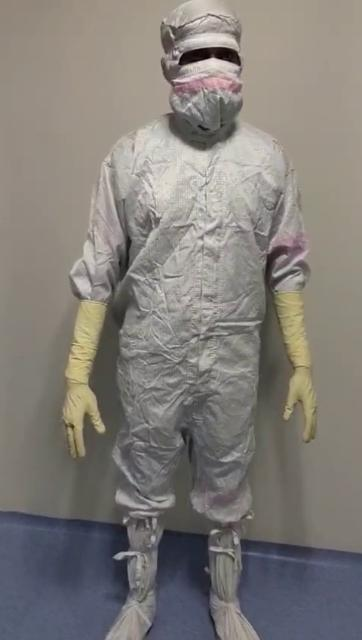boot_secured: (94, 488, 176, 640), (195, 490, 274, 640)
gloves_fitted_securely: (48, 284, 124, 464), (261, 270, 333, 454)
headgear_secured: (159, 2, 252, 146)
zip_secured: (185, 132, 231, 408)
